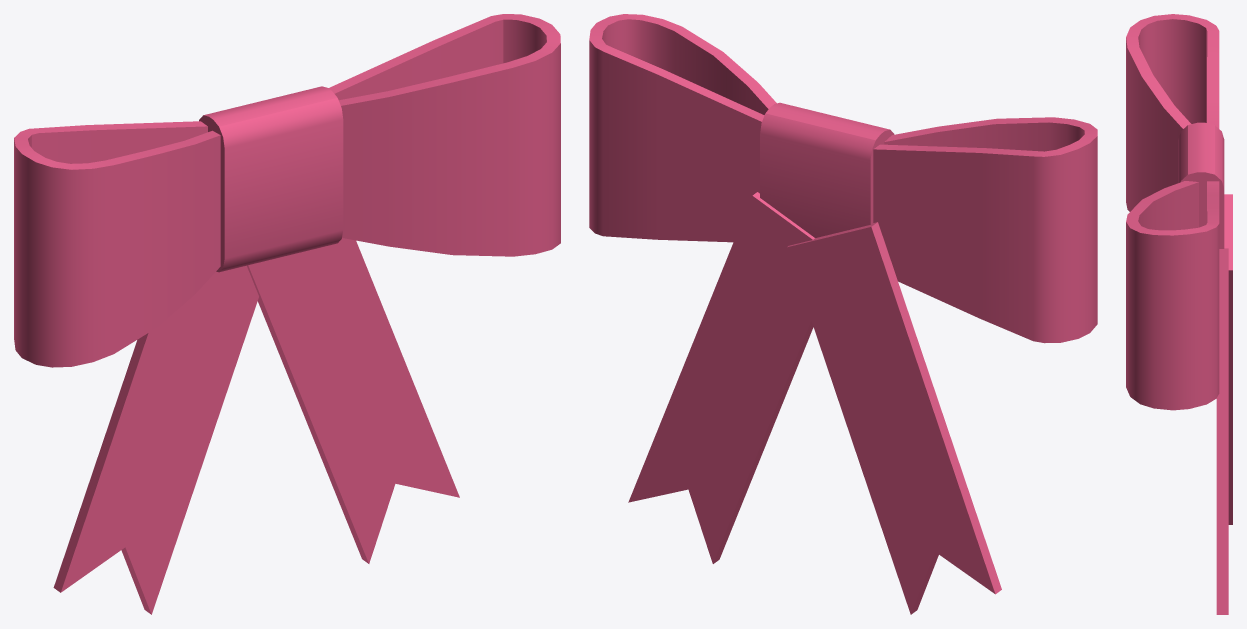
File: ribbon.glb
The picture shows the model from 3 angles, left to right: view 1: azimuth 30°, elevation 25°; view 2: azimuth 150°, elevation 25°; view 3: azimuth 270°, elevation 25°; orthographic projection. The views are drawn at different scales.
Parts seen in each view (by area): view 1: Cube.080; view 2: Cube.080; view 3: Cube.080.
Boxes of the visible parts, x1=… form: Cube.080: x1=14, y1=14, x2=560, y2=614; Cube.080: x1=589, y1=14, x2=1097, y2=614; Cube.080: x1=1126, y1=14, x2=1232, y2=614.
Bounding box in the file's own units: 2.27 × 2.13 × 0.4631.
Materials: 1 (1 with a texture image).
